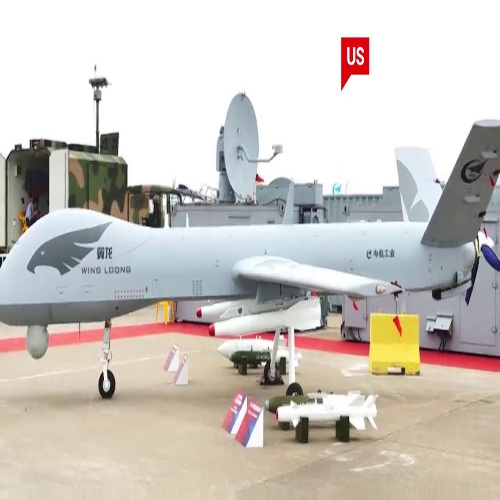uav97: (2, 128, 498, 394)
